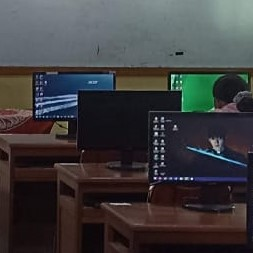monitor: (76, 90, 182, 170), (147, 111, 253, 187), (32, 71, 116, 122), (167, 69, 252, 112)
